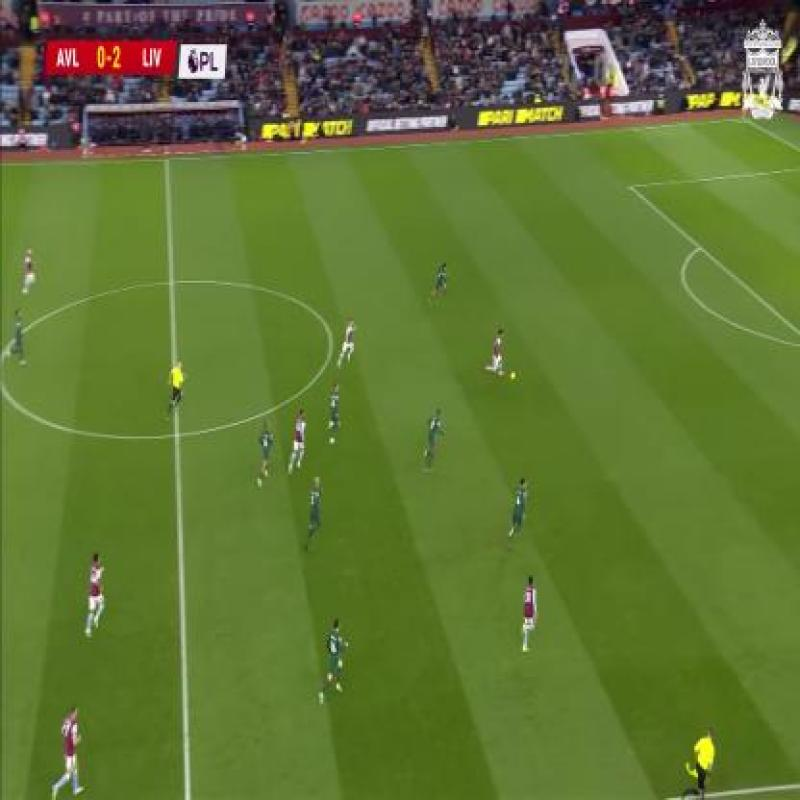1: (736, 112, 750, 126)
10: (692, 233, 710, 264)
13: (160, 150, 178, 173)
14: (158, 269, 186, 300)
15: (164, 417, 192, 452)
9: (621, 175, 642, 200)
c: (314, 316, 348, 360)
